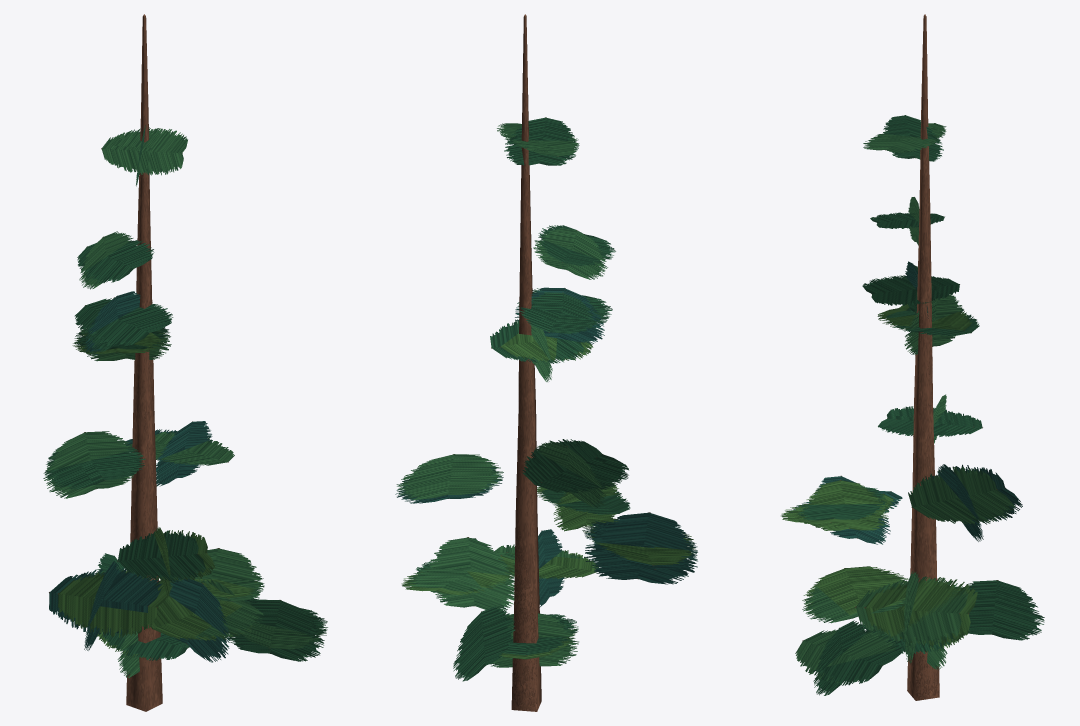
File: hero_spruce_a_lod2.obj
3 views of the same model, side by side, from view 1: azimuth 30°, elevation 25°; view 2: azimuth 150°, elevation 25°; view 3: azimuth 270°, elevation 25° (orthographic).
Visible parts, largest first — view 1: hero_spruce_a_lod2; view 2: hero_spruce_a_lod2; view 3: hero_spruce_a_lod2.
Part boxes in pixels (x1,y1,x2,y2): hero_spruce_a_lod2: (43,14,327,711); hero_spruce_a_lod2: (395,14,697,711); hero_spruce_a_lod2: (781,14,1044,700).
Bounding box in the file's own units: 7.97 × 16.21 × 6.68.
2 materials, 2 textured.
